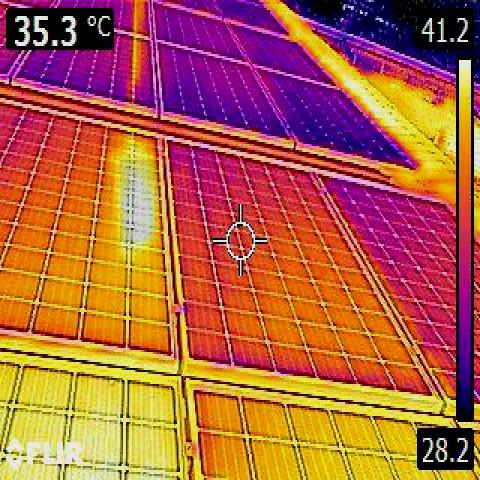fault: (120, 160, 156, 242)
